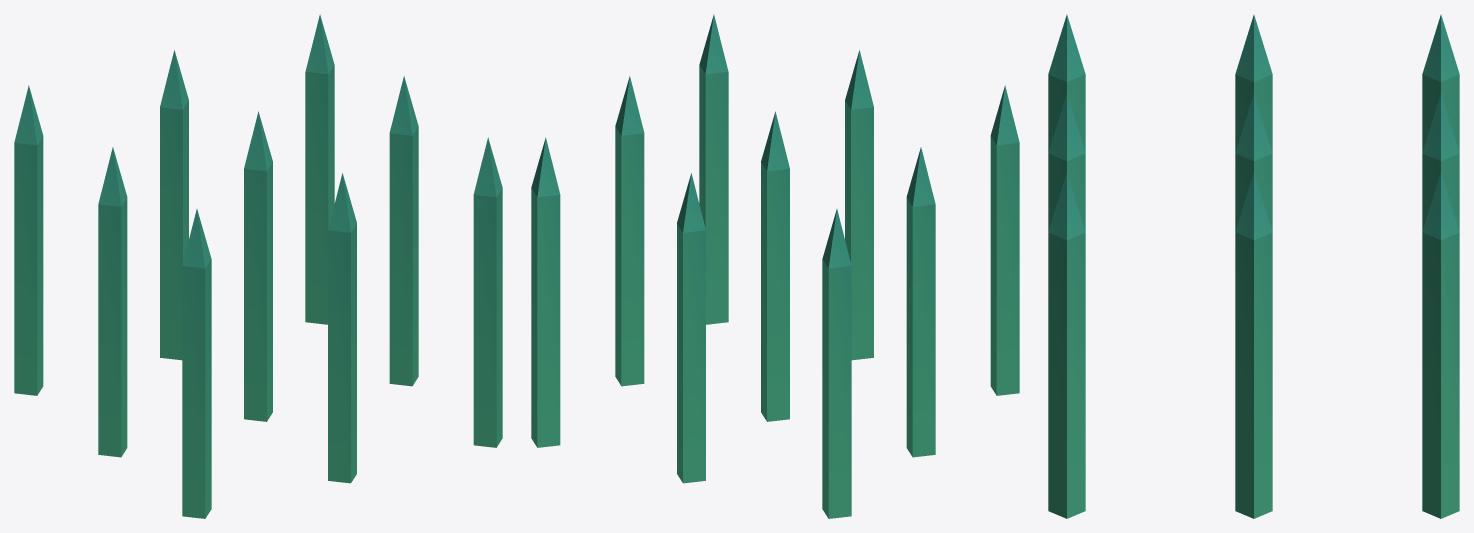
File: floor_tile_big_spikes_spikes.glb
3 views of the same model, side by side, from view 1: azimuth 30°, elevation 25°; view 2: azimuth 150°, elevation 25°; view 3: azimuth 270°, elevation 25° (orthographic). The views are drawn at different scales.
Parts seen in each view (by area): view 1: spikes; view 2: spikes; view 3: spikes.
Part boxes in pixels (x1,y1,x2,y2): spikes: [14, 14, 502, 518]; spikes: [531, 14, 1019, 518]; spikes: [1048, 14, 1459, 518].
Bounding box in the file's own units: 2.2 × 2 × 2.2.
1 material, 1 textured.
